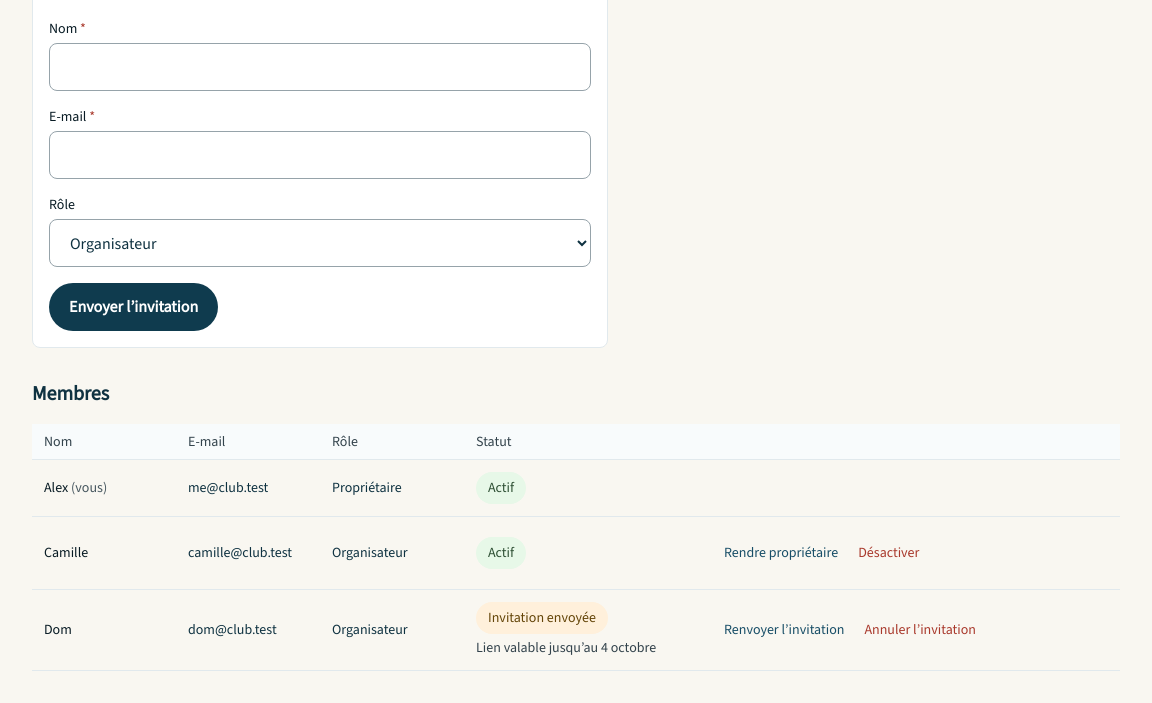
it: OrganizationMembers › « Garder l’invitation » ferme la confirmation sans rien annuler
(page scrolled)
Click the button "Annuler l’invitation": click(920, 630) 856,606 -> 984,654
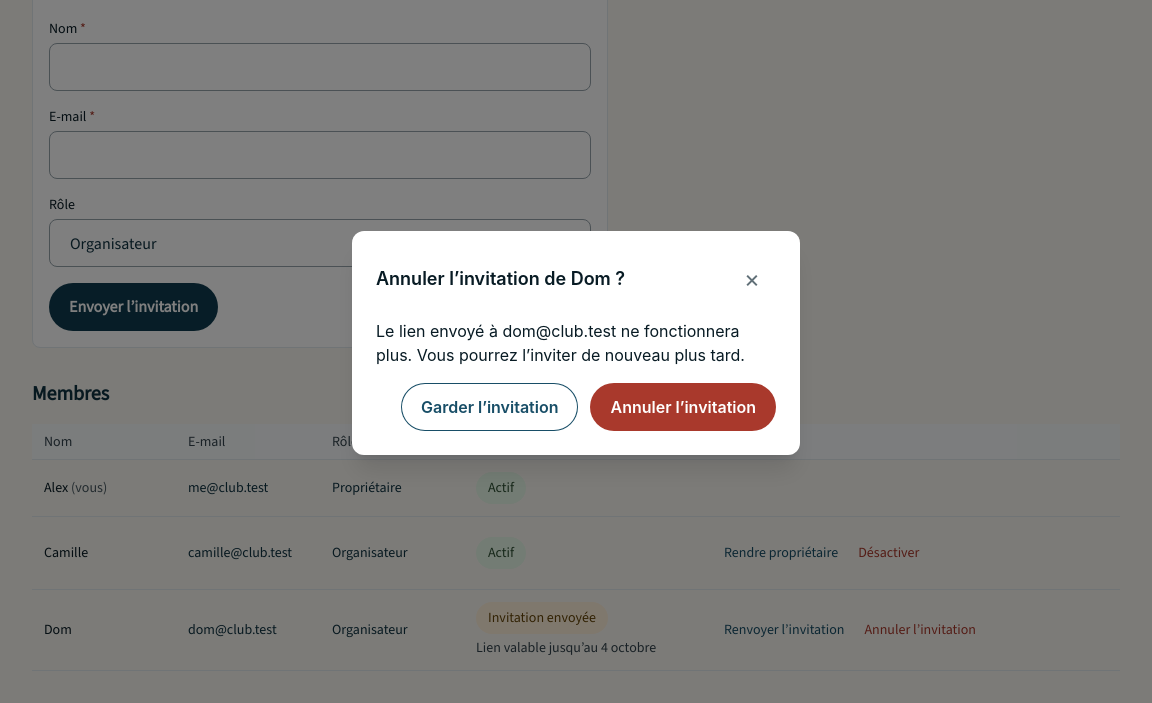
Click the button "Garder l’invitation": click(490, 407) 401,383 -> 578,431
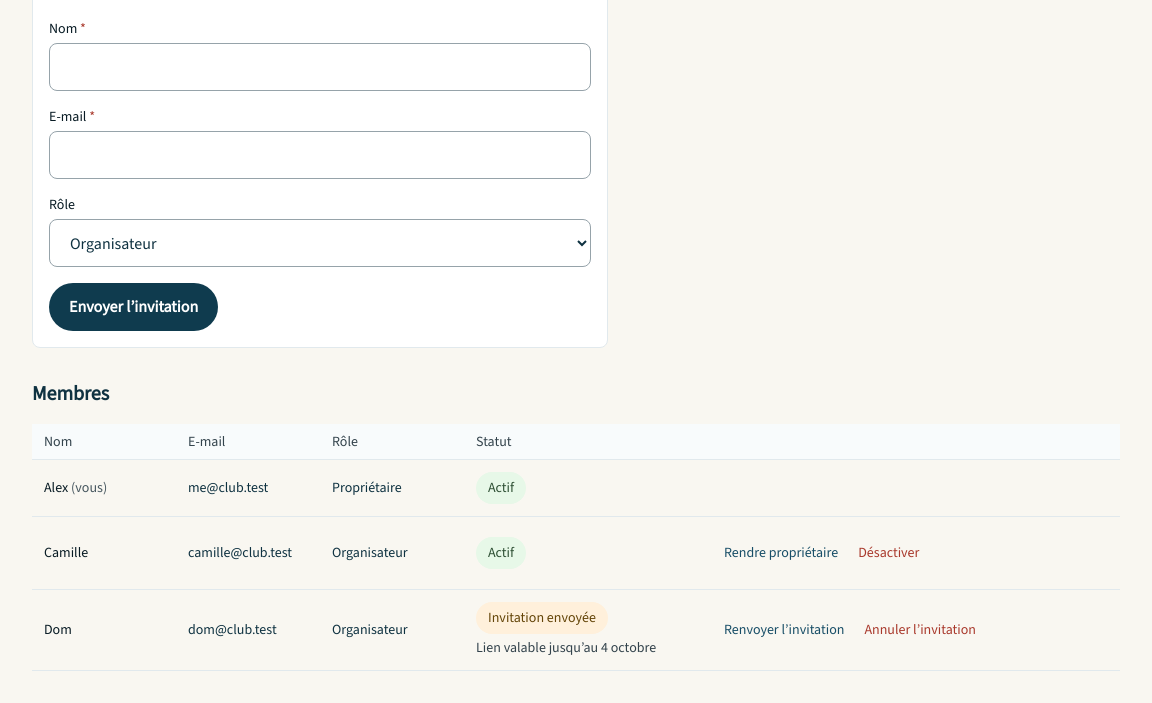
Check: the dialog is gone
